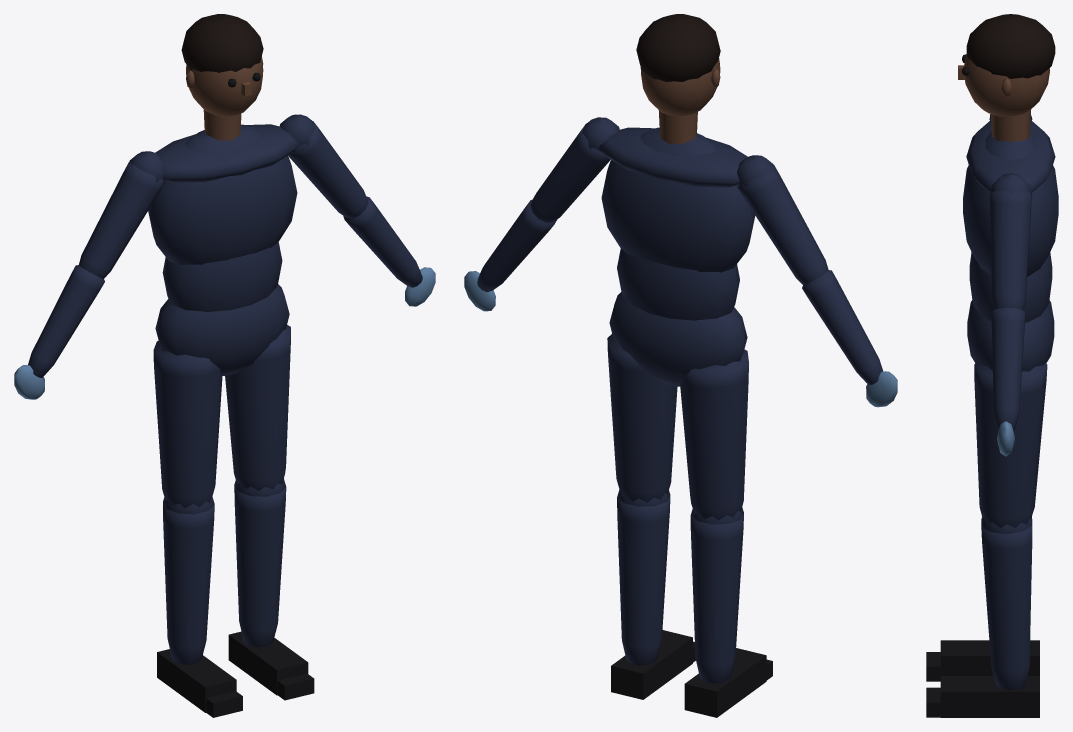
File: Okafor.obj
The picture shows the model from 3 angles, left to right: view 1: azimuth 30°, elevation 25°; view 2: azimuth 150°, elevation 25°; view 3: azimuth 270°, elevation 25°; orthographic projection. The views are drawn at different scales.
Parts seen in each view (by area): view 1: Okafor; view 2: Okafor; view 3: Okafor.
Boxes of the visible parts, box(x1,y1,x2,y2) form: Okafor: box(14, 14, 435, 717); Okafor: box(464, 14, 897, 717); Okafor: box(926, 14, 1058, 717).
Size of the model in its own units: 1.28 by 1.9 by 0.3392.
